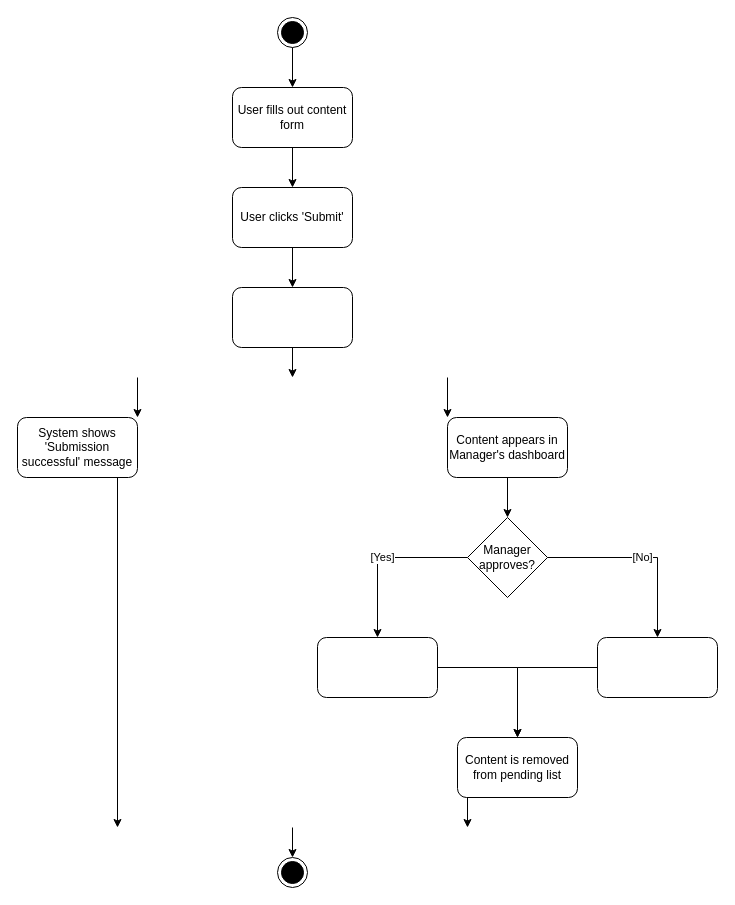
Image size: 735x905. Some labels were removed from this diagram. The centre of each missing label's shape, as x and y in pixels:
"System deletes content" goes at (x=657, y=667).
"System saves content with 'pending' status" goes at (x=292, y=317).
"System updates status to 'approved'" goes at (x=377, y=667).
